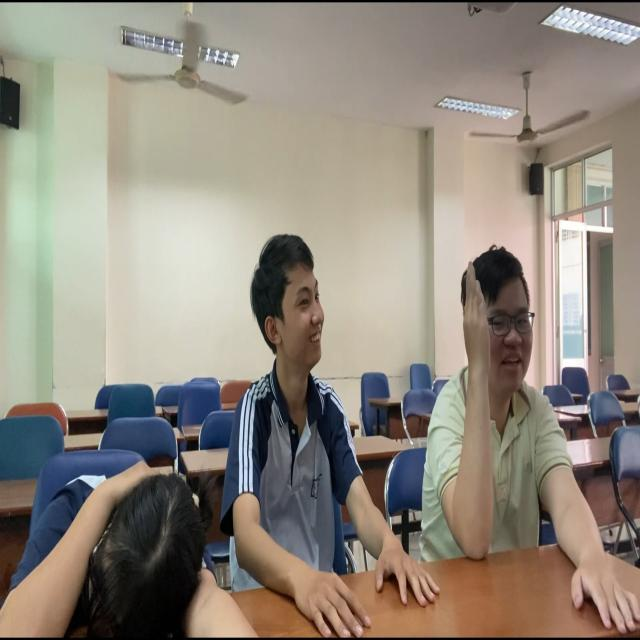raise_hand: (422, 240, 585, 640)
sleep: (1, 448, 209, 640)
